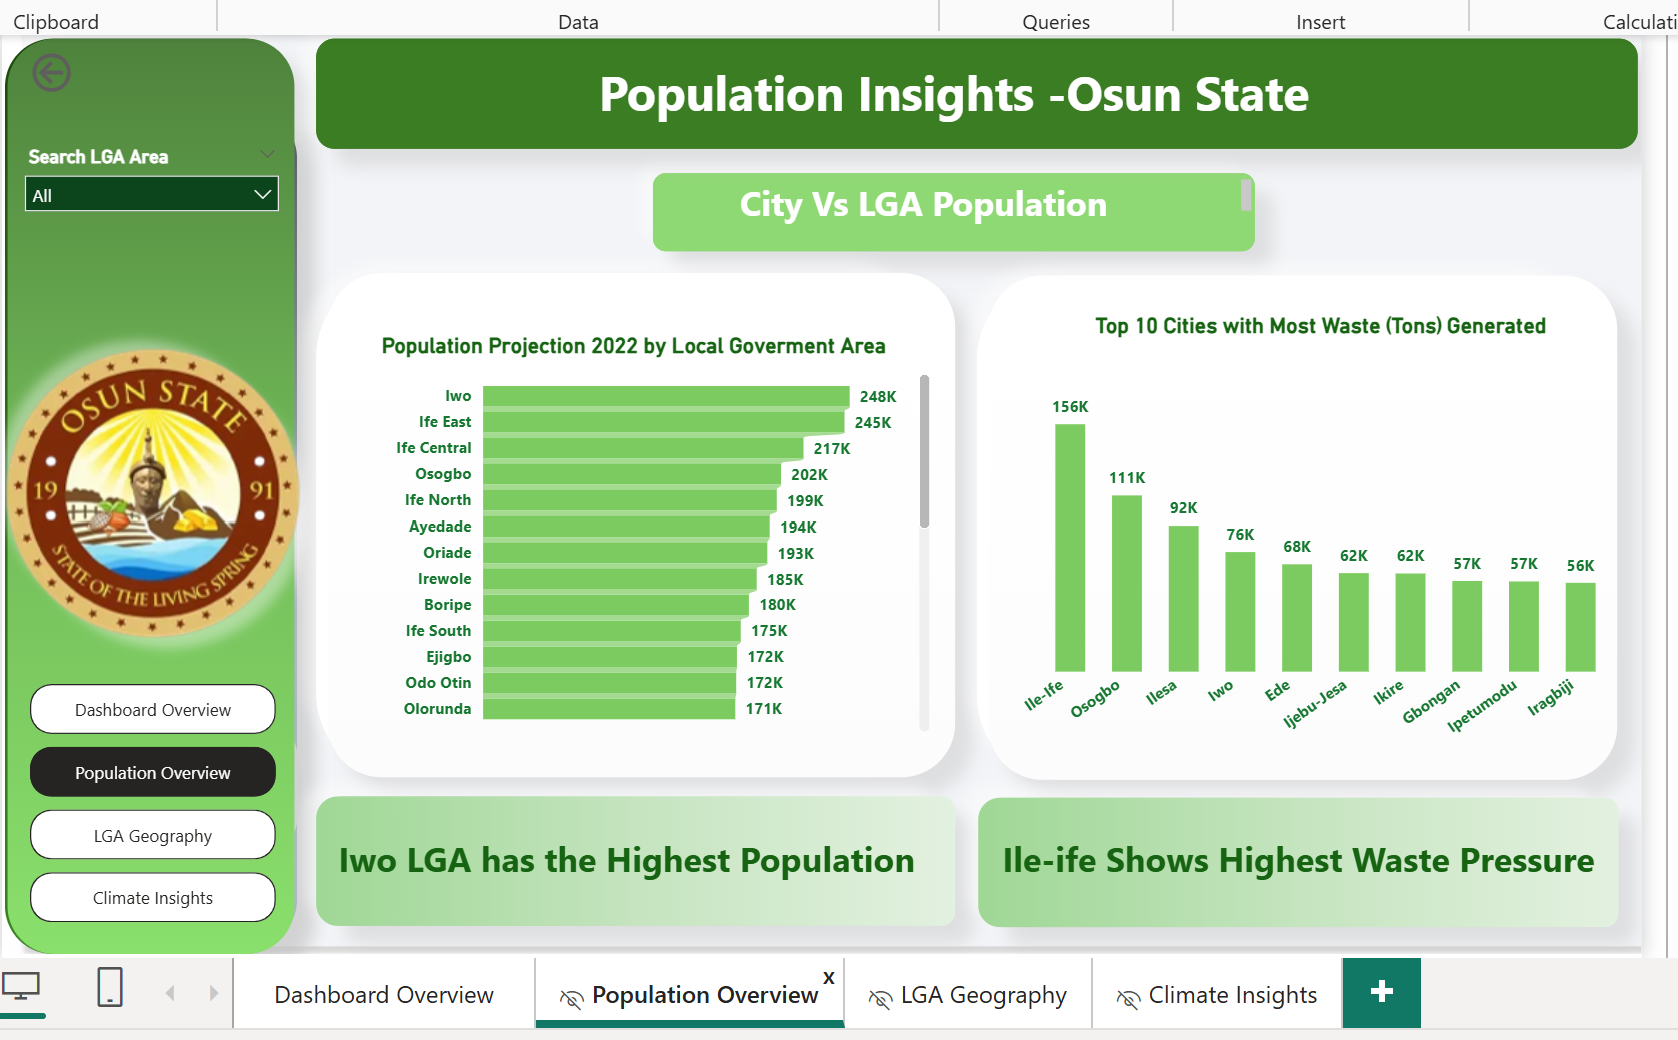

Layout of this report page (visuals, bound fields, positions):
{"tool":"powerbi","page":{"name":"Population Overview","canvas":[1280,720],"ordinal":1},"visuals":[{"type":"barChart","title":"Population Projection 2022 by Local Goverment Area","fields":{"Y":["Sum(LGA Population.PopulationProjection2022-03-21)"],"Category":["LGA Population.Local Goverment Area"]},"box":[257.7,232.7,471.7,315.5],"z":0},{"type":"clusteredColumnChart","title":"Top 10 Cities with Most Waste (Tons) Generated ","fields":{"Category":["Township.City"],"Y":["Sum(LGA Population.Total Waste Aprox (Tons))"]},"box":[791.8,217.1,476.4,348.3],"z":1000},{"type":"textbox","box":[571.6,107.8,409.2,51.5],"z":2000},{"type":"textbox","box":[299.9,14.1,887.1,73.4],"z":3000},{"type":"textbox","box":[257.7,618.5,526.3,64],"z":4000},{"type":"textbox","box":[776.2,618.5,504.5,64],"z":5000},{"type":"slicer","fields":{"Values":["LGA Population.Local Goverment Area"]},"box":[8.6,81.4,218.6,60],"z":6000},{"type":"actionButton","box":[18.3,10,100,40],"z":7000},{"type":"pageNavigator","box":[22,506,192,186],"z":8000},{"type":"image","box":[0,241.4,235.7,232.9],"z":9000}]}

Visuals, with their boxes on the page's 1280x720 design canvas (x1, y1, x2, y2). These are canvas units, not pixel positions in the 1678x1040 screenshot, which may show the page scaled, cropped or inside an application window:
"Population Projection 2022 by Local Goverment Area" barChart: <region>258, 233, 729, 548</region>
"Top 10 Cities with Most Waste (Tons) Generated " clusteredColumnChart: <region>792, 217, 1268, 565</region>
textbox: <region>572, 108, 981, 159</region>
textbox: <region>300, 14, 1187, 88</region>
textbox: <region>258, 618, 784, 682</region>
textbox: <region>776, 618, 1281, 682</region>
slicer - LGA Population.Local Goverment Area: <region>9, 81, 227, 141</region>
actionButton: <region>18, 10, 118, 50</region>
pageNavigator: <region>22, 506, 214, 692</region>
image: <region>0, 241, 236, 474</region>
